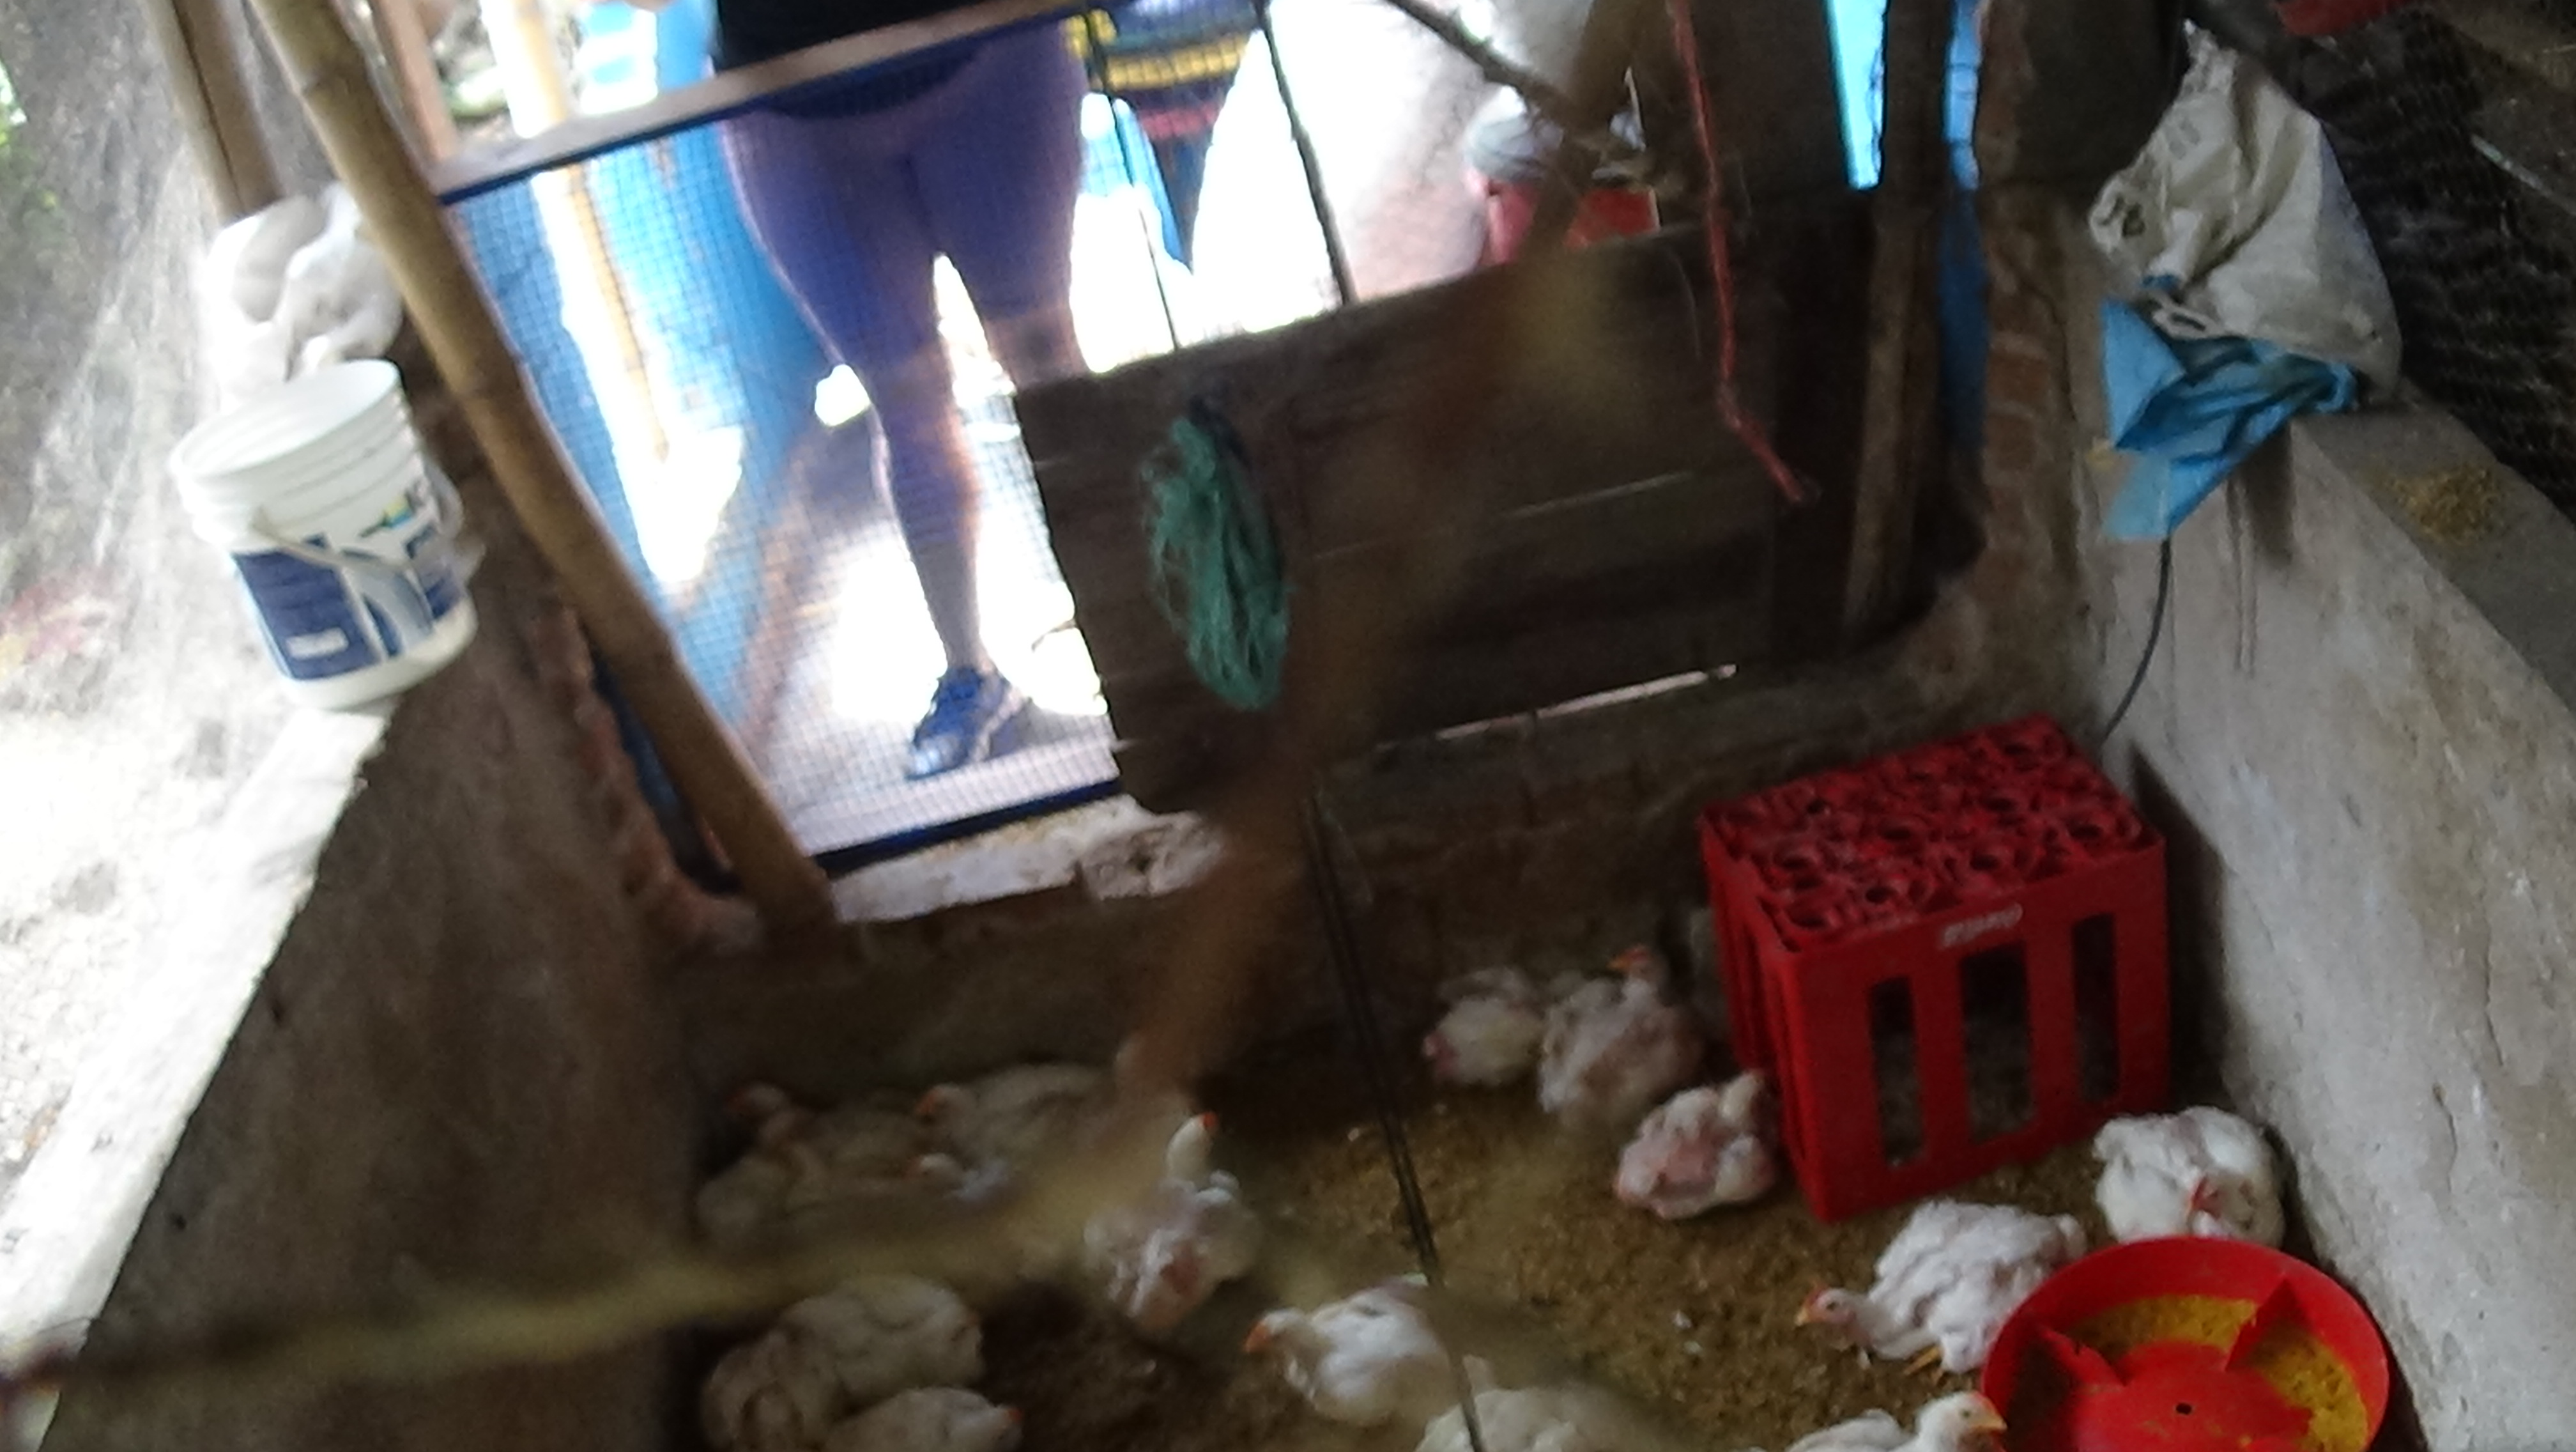Pollos: (1778, 1181, 2070, 1404), (1097, 1078, 1279, 1303), (1244, 1264, 1467, 1427), (2070, 1096, 2298, 1252), (1601, 1066, 1787, 1231), (1516, 944, 1677, 1124), (888, 1061, 1139, 1163), (778, 1266, 975, 1376), (697, 1096, 817, 1261), (791, 1383, 1042, 1452), (711, 1078, 888, 1163), (1417, 981, 1553, 1073)
